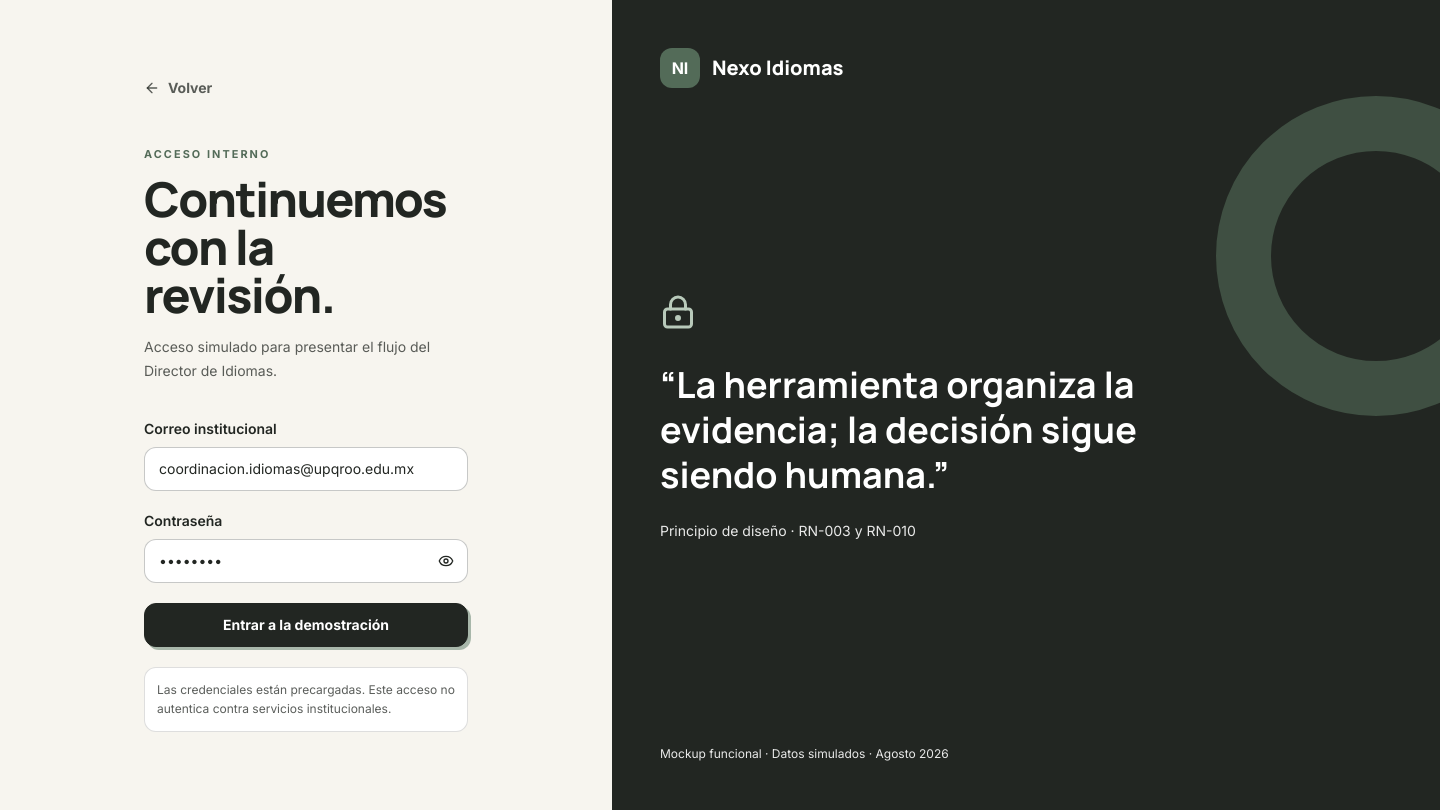
Scenario: LoginPage › prepara módulos y datos cuando el acceso es válido
Click the button "Entrar a la demostración". click: [306, 625]
box: [144, 603, 468, 647]
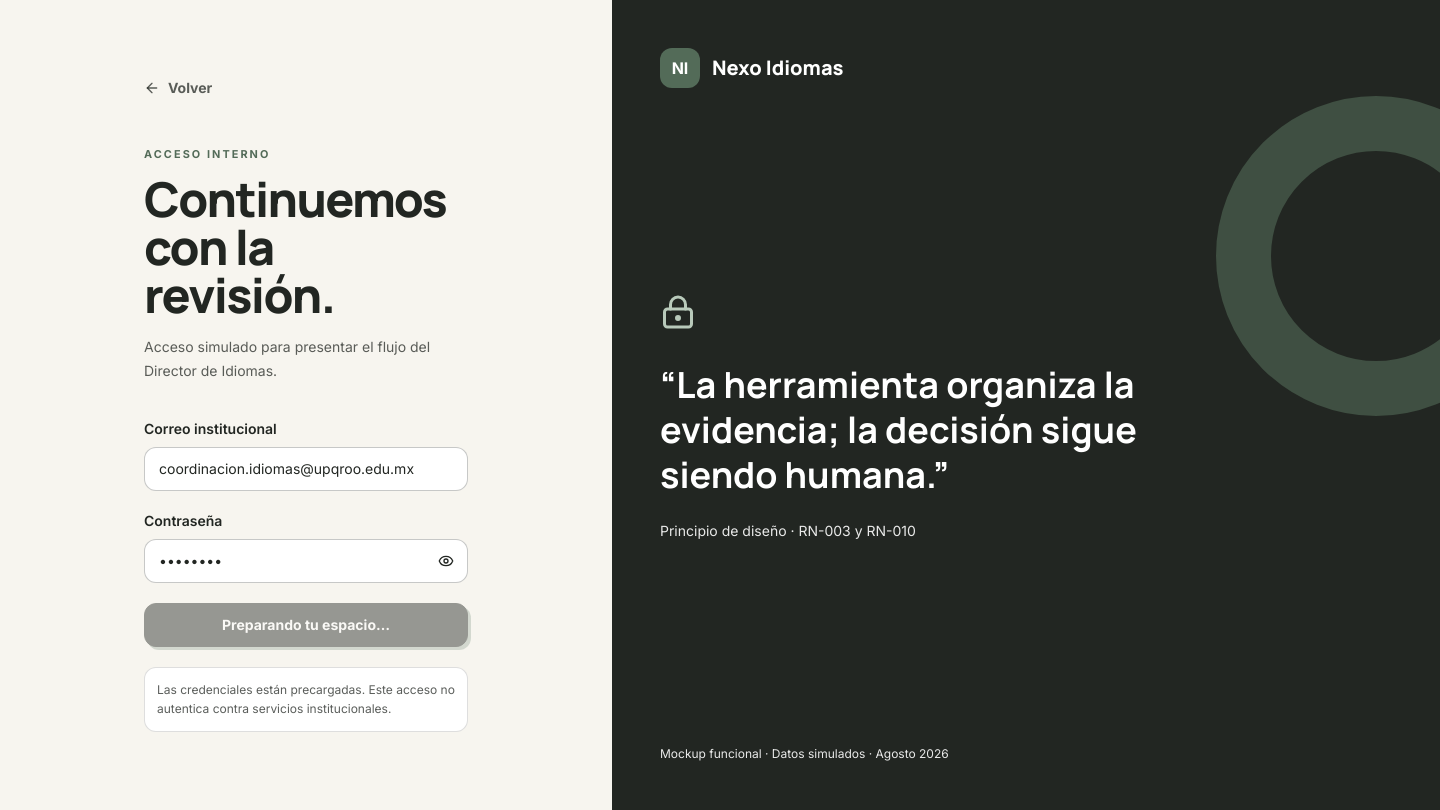
Expected: the button "Preparando tu espacio…" is disabled, [144, 603, 468, 647]
